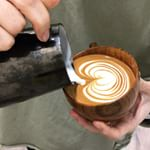cups: (58, 41, 141, 128)
